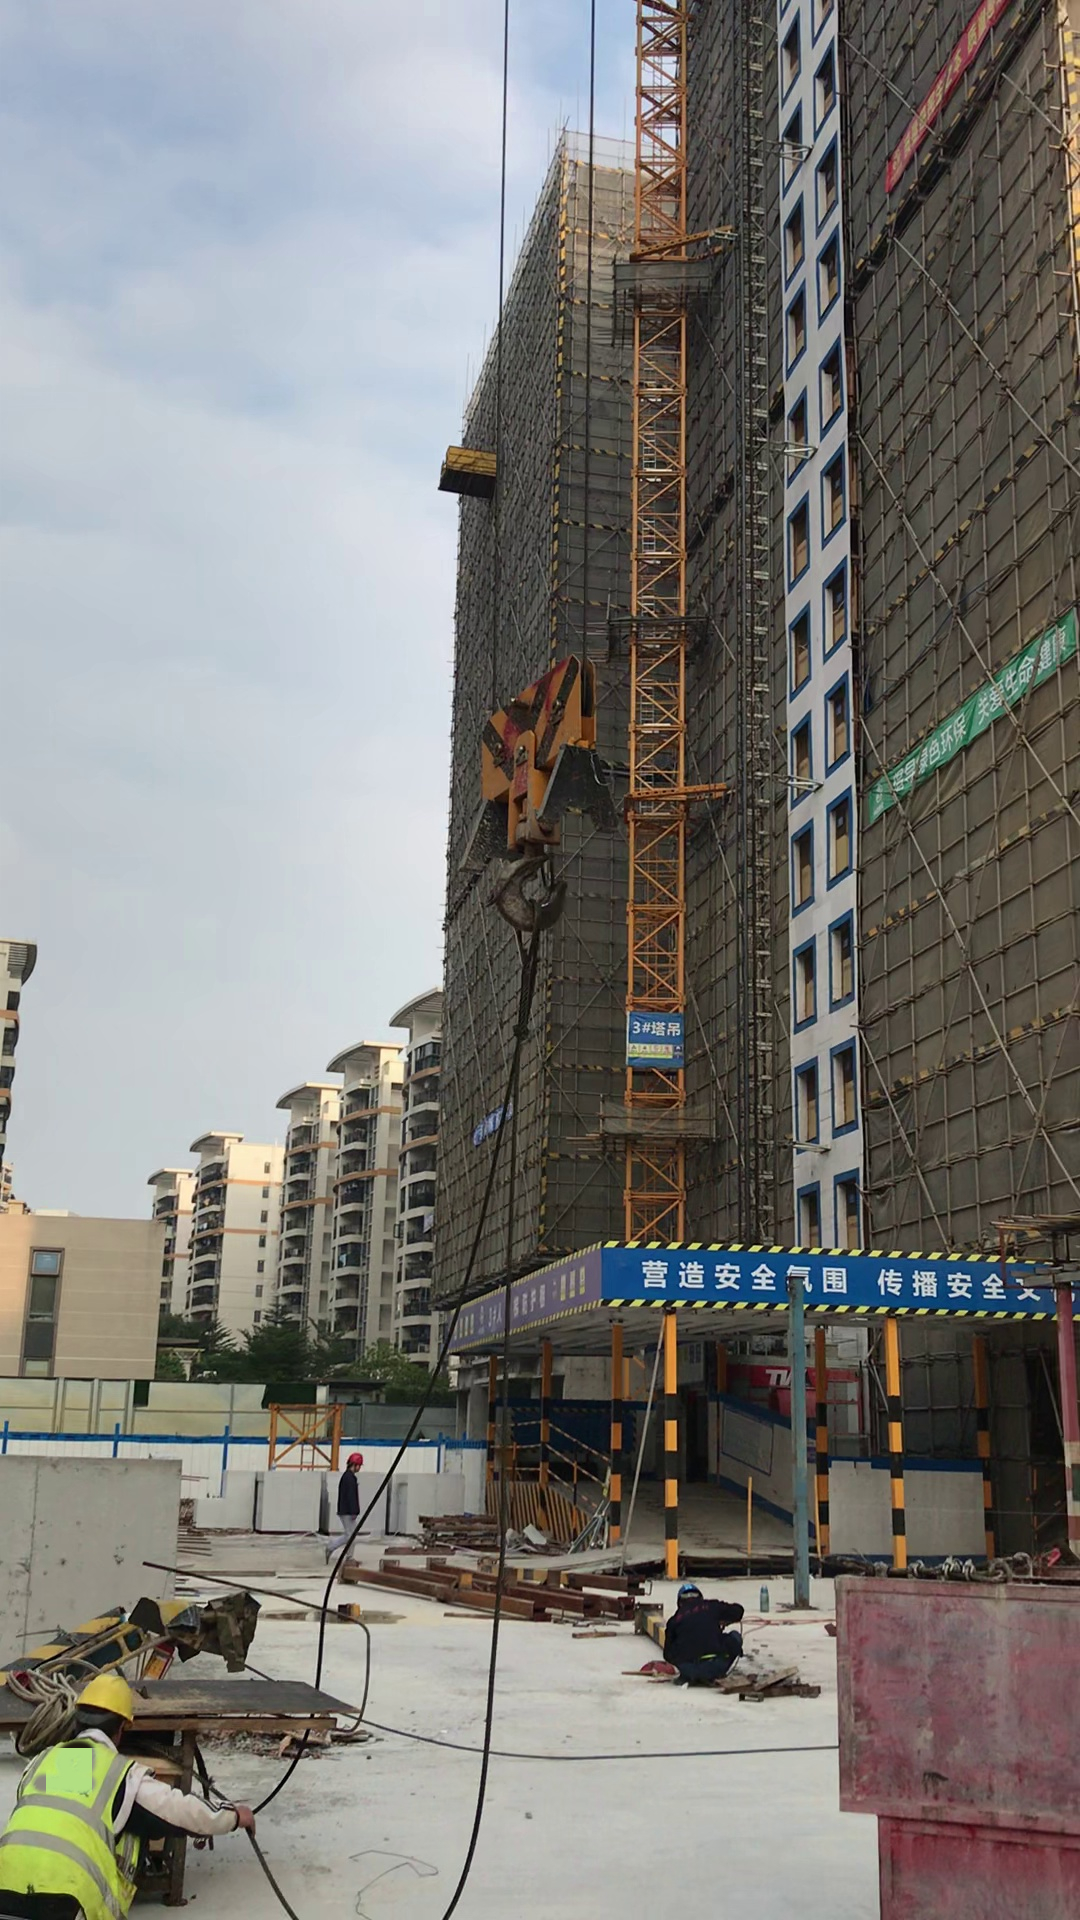cutter: (1, 1641, 372, 1894)
helmet: (67, 1667, 141, 1724), (672, 1580, 709, 1603), (346, 1448, 365, 1463)
hook: (449, 626, 603, 940)
person: (1, 1655, 255, 1916), (647, 1575, 768, 1700), (323, 1443, 376, 1575)
slogan: (870, 628, 1080, 828), (609, 1236, 1080, 1320), (884, 1, 1014, 190), (436, 1249, 607, 1355)
vest: (10, 1741, 153, 1915)
